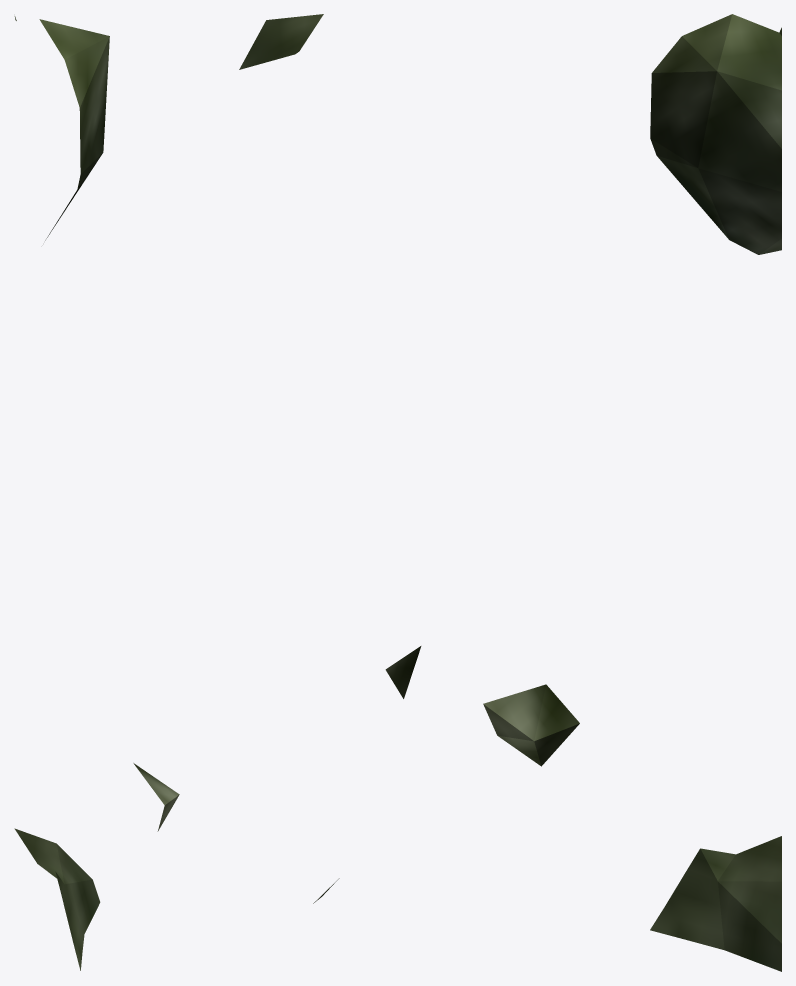
3 views of the same model, side by side, from view 1: azimuth 30°, elevation 25°; view 2: azimuth 150°, elevation 25°; view 3: azimuth 270°, elevation 25° (orthographic). The views are drawn at different scales.
Bounding box in the file's own units: 0.086 × 0.8798 × 0.26.
1 material, 1 textured.
